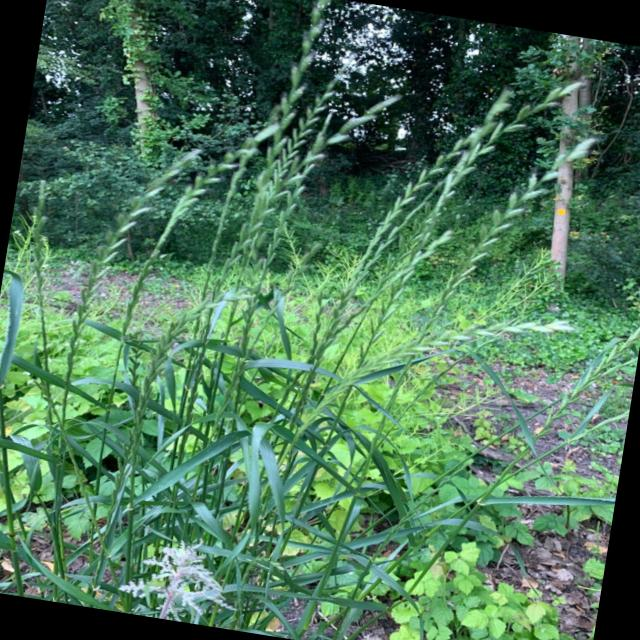Lolium: (356, 51, 586, 393), (117, 94, 290, 360), (225, 77, 397, 316), (428, 116, 598, 350), (416, 59, 584, 266), (63, 132, 202, 382), (226, 0, 334, 303), (348, 104, 491, 314), (511, 307, 640, 482), (325, 213, 452, 359), (114, 334, 172, 503), (15, 181, 63, 288), (304, 291, 332, 365)
